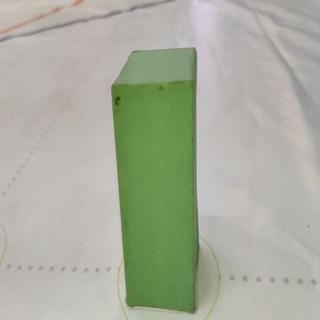greenbox: (110, 47, 197, 313)
